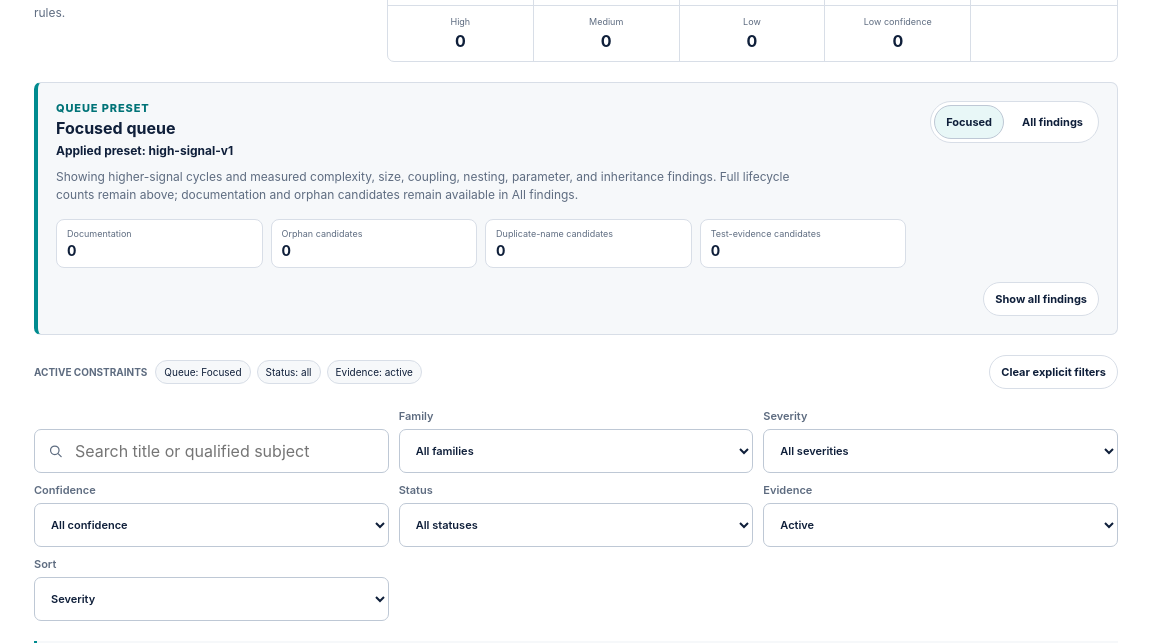
it: FindingsView › refreshes a status-filtered queue after a successful review
Select "New" in the dropdown labelled "Status": (576,525) left=399, top=503, right=753, bottom=547
(page scrolled)
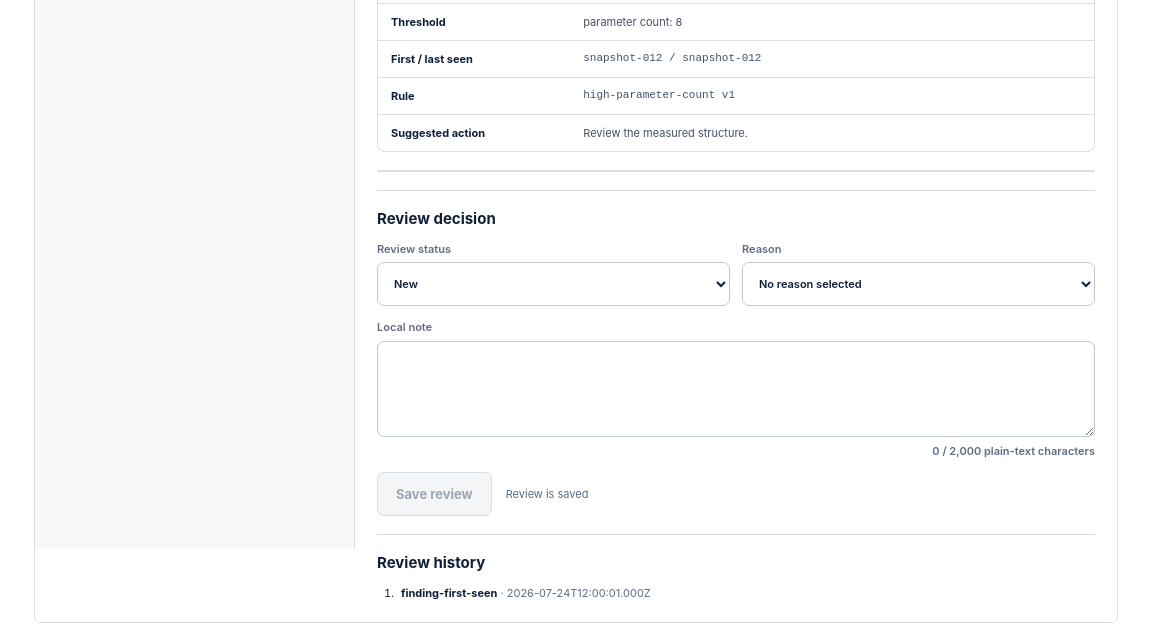
Select "Reviewed" in the dropdown labelled "Review status": (554,284) left=377, top=262, right=730, bottom=306
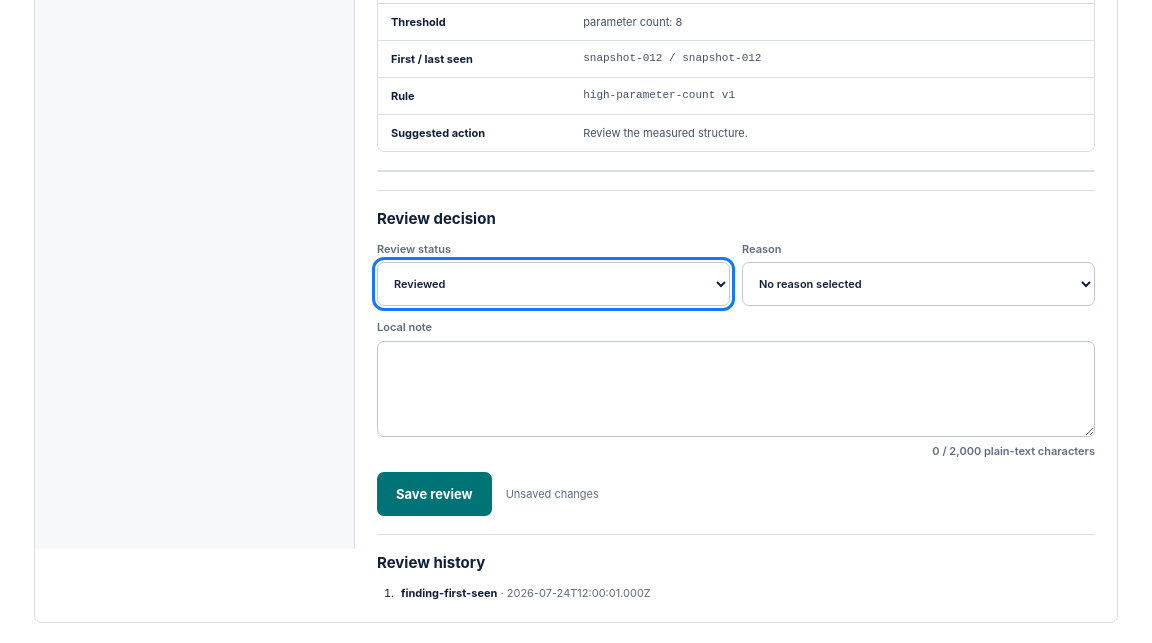
Click the button "Save review": (434,494) left=377, top=472, right=492, bottom=516
(page scrolled)
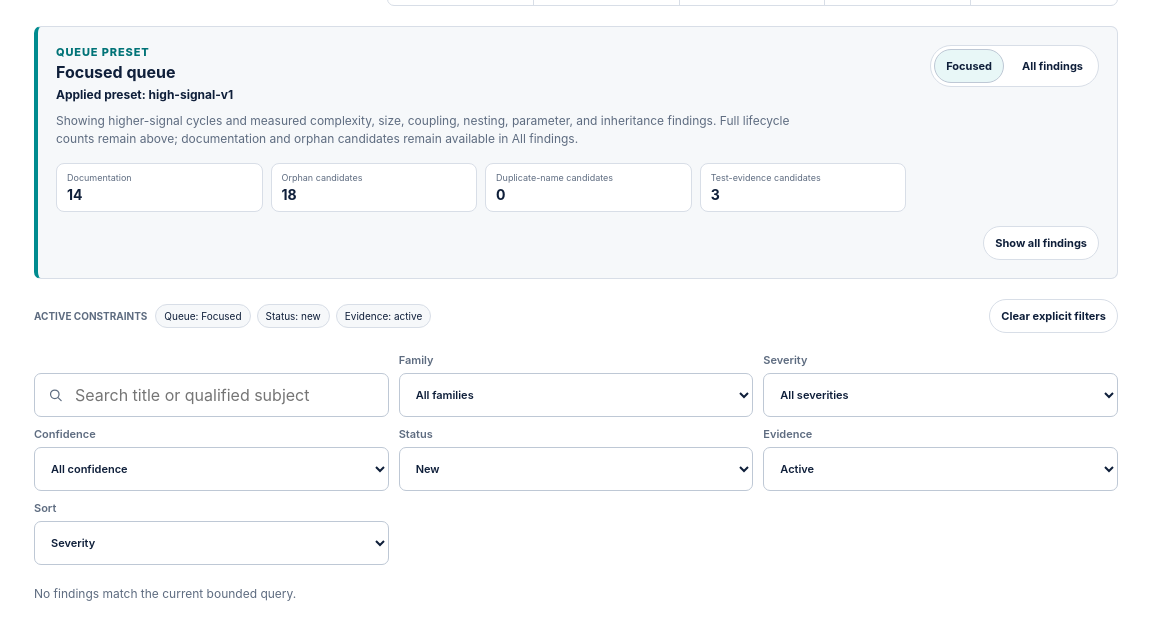
Result: the text "No findings match the current bounded query." is shown at left=34, top=586, right=296, bottom=601
